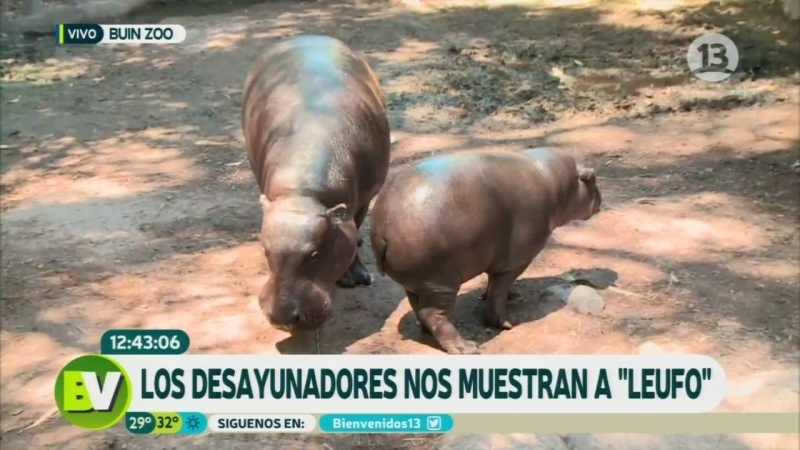hipopotamo: (363, 135, 631, 356), (225, 25, 392, 343)
